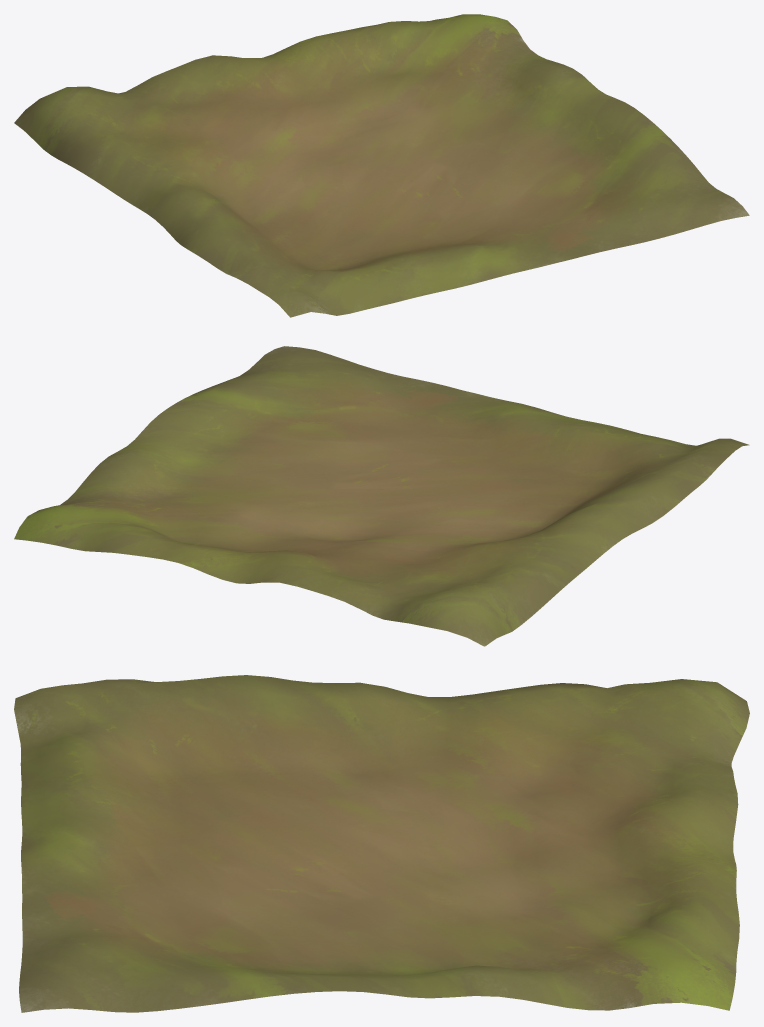
The model's file is Ground.obj.
The picture shows the model from 3 angles, top to bottom: view 1: azimuth 30°, elevation 25°; view 2: azimuth 150°, elevation 25°; view 3: azimuth 270°, elevation 25°; orthographic projection. The views are drawn at different scales.
Visible parts, largest first — view 1: Ground; view 2: Ground; view 3: Ground.
Boxes of the visible parts, bbox=[...] form: Ground: bbox=[14, 14, 749, 317]; Ground: bbox=[14, 346, 749, 646]; Ground: bbox=[14, 675, 749, 1012].
Bounding box in the file's own units: 161 × 13.2 × 160.
Materials: 1 (1 with a texture image).
